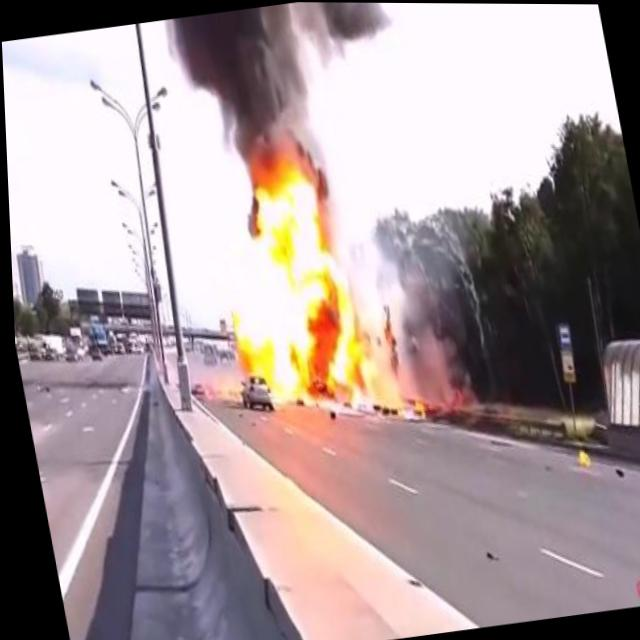fire: (201, 153, 391, 424), (405, 387, 427, 423), (570, 442, 591, 470)
